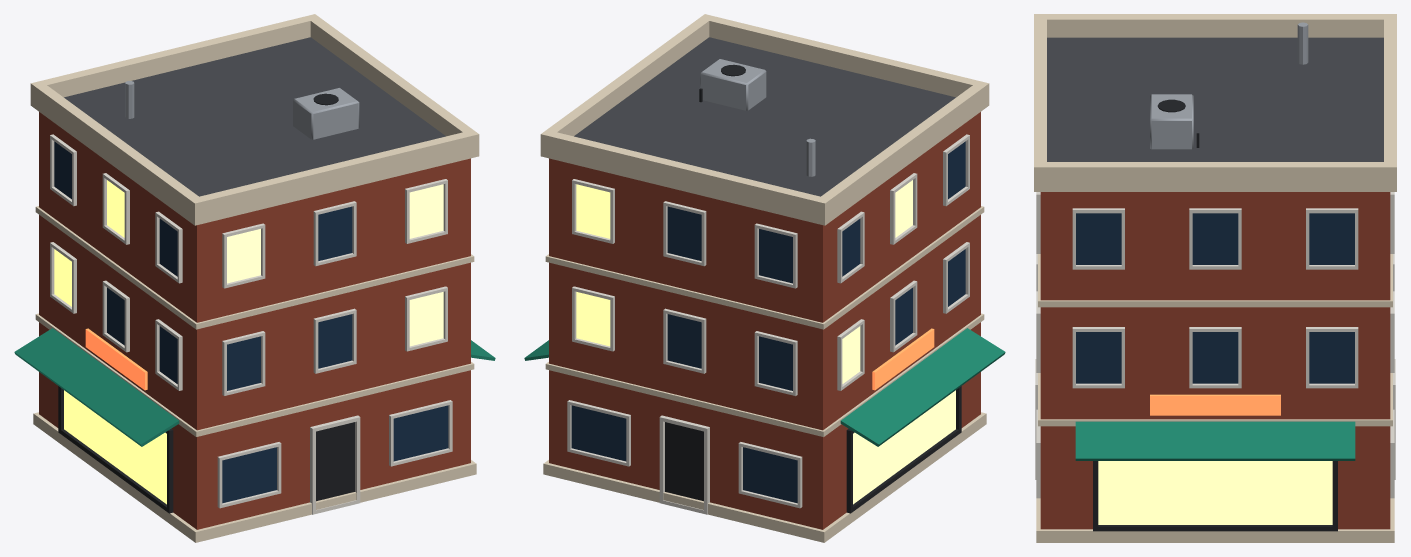
Rendered from building_a.glb.
3 views of the same model, side by side, from view 1: azimuth 30°, elevation 25°; view 2: azimuth 150°, elevation 25°; view 3: azimuth 270°, elevation 25° (orthographic). The views are drawn at different scales.
Visible parts, largest first — view 1: Building_A_Mesh; view 2: Building_A_Mesh; view 3: Building_A_Mesh.
Boxes of the visible parts, x1=… form: Building_A_Mesh: x1=14, y1=14, x2=495, y2=542; Building_A_Mesh: x1=524, y1=14, x2=1005, y2=542; Building_A_Mesh: x1=1034, y1=14, x2=1396, y2=542.
Size of the model in its own units: 10.35 by 10 by 8.3.
